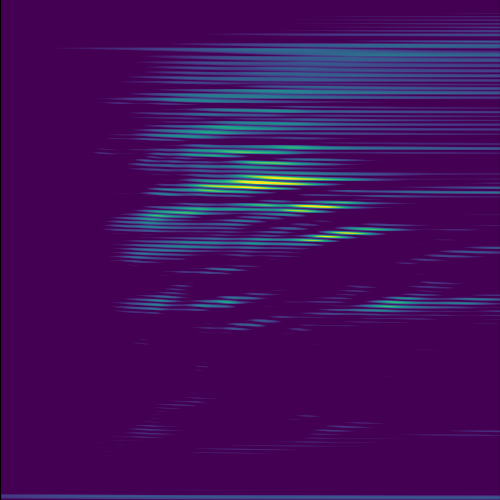semblance: (189, 172, 338, 194), (296, 225, 392, 245), (274, 198, 359, 216)
